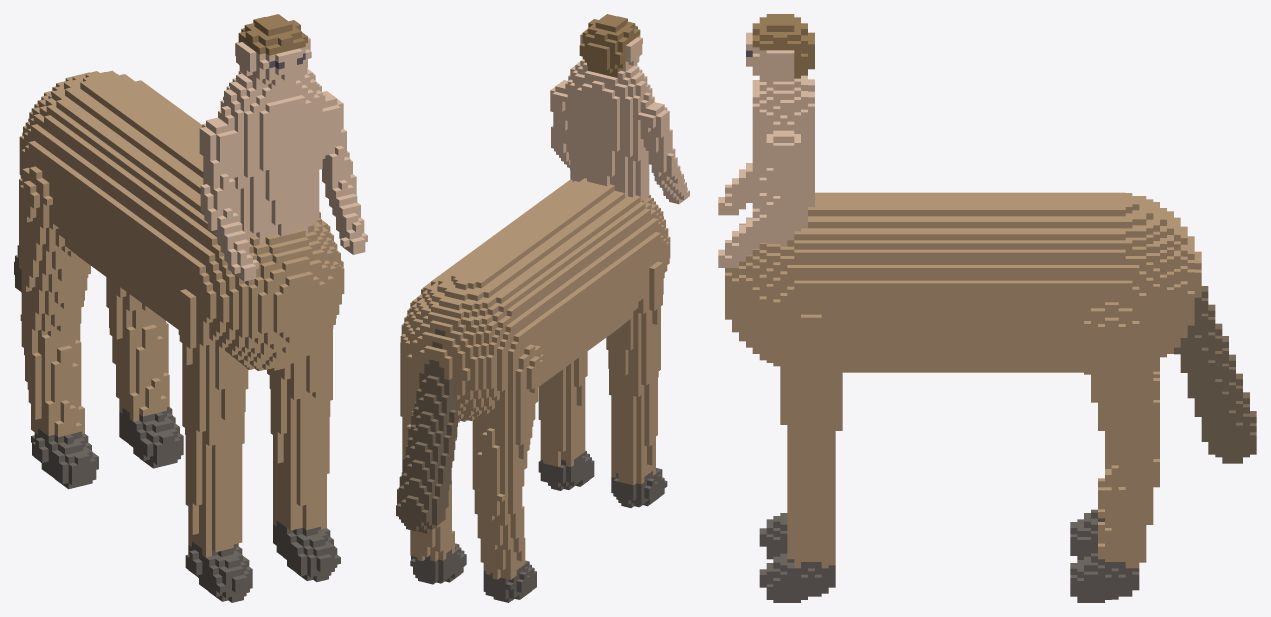
Rendered from centaur.glb.
3 renders of one model, left to right at view 1: azimuth 30°, elevation 25°; view 2: azimuth 150°, elevation 25°; view 3: azimuth 270°, elevation 25°, orthographic. The views are drawn at different scales.
Visible parts, largest first — view 1: item; view 2: item; view 3: item.
Part boxes in pixels (<box>): item: <box>14,14,367,602</box>; item: <box>396,14,689,602</box>; item: <box>718,14,1256,602</box>.
Bounding box in the file's own units: 26 × 89 × 78.
